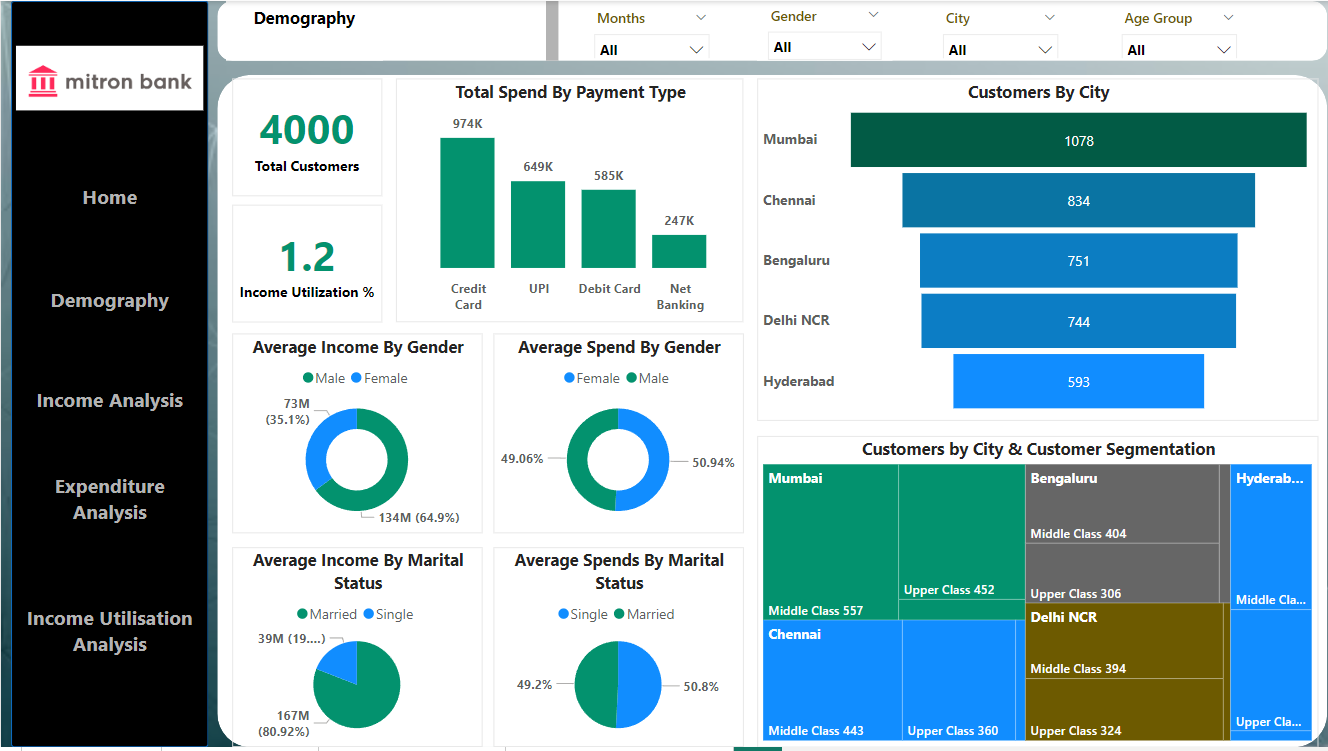

The dashboard page shown, as its layout file describes it:
{"tool":"powerbi","page":{"name":"Demography","canvas":[1280,720],"ordinal":1},"visuals":[{"type":"shape","box":[9.7,0,190.6,720.2],"z":0},{"type":"shape","box":[208.7,0,1071.3,57.9],"z":1000},{"type":"actionButton","box":[9.7,154.4,190.6,67.6],"z":2000},{"type":"actionButton","box":[9.7,349.9,190.6,67.6],"z":3000},{"type":"actionButton","box":[9.7,446.4,190.6,67.6],"z":4000},{"type":"actionButton","box":[9.7,550.1,190.6,113.4],"z":5000},{"type":"actionButton","box":[9.7,253.4,190.6,67.6],"z":6000},{"type":"textbox","box":[217.2,0,150.8,57.9],"z":7000},{"type":"shape","box":[526,0,12.1,57.9],"z":8000},{"type":"slicer","fields":{"Values":["fact_spends.month"]},"box":[562.2,2.4,131.5,53.1],"z":9000},{"type":"slicer","fields":{"Values":["dim_customers.gender"]},"box":[729.9,0,130.3,57.9],"z":10000},{"type":"slicer","fields":{"Values":["dim_customers.age_group"]},"box":[1071.3,2.4,131.5,53.1],"z":11000},{"type":"slicer","fields":{"Values":["dim_customers.city"]},"box":[898.8,2.4,131.5,53.1],"z":12000},{"type":"shape","box":[208.7,71.2,1071.3,649.1],"z":13000},{"type":"card","fields":{"Values":["dim_customers.Total Customers"]},"box":[223.2,74.8,144.8,113.4],"z":14000},{"type":"card","fields":{"Values":["dim_customers.Income Utilization %"]},"box":[223.2,196.6,144.8,113.4],"z":15000},{"type":"clusteredColumnChart","title":"Total Spend By Payment Type","fields":{"Category":["fact_spends.payment_type"],"Y":["fact_spends.Total Expenses (spend)"]},"box":[381.2,74.8,335.4,235.3],"z":16000},{"type":"donutChart","title":"Average Income By  Gender","fields":{"Category":["dim_customers.gender"],"Y":["Sum(dim_customers.avg_income)"]},"box":[223.2,320.9,241.3,193],"z":17000},{"type":"donutChart","title":"Average Spend By  Gender","fields":{"Category":["dim_customers.gender"],"Y":["Avg(fact_spends.spend)"]},"box":[475.3,320.9,241.3,193],"z":18000},{"type":"pieChart","title":"Average Income By Marital Status","fields":{"Y":["Sum(dim_customers.avg_income)"],"Category":["dim_customers.marital status"]},"box":[223.2,527.2,241.3,193],"z":19000},{"type":"pieChart","title":"Average Spends By Marital Status","fields":{"Y":["Avg(fact_spends.spend)"],"Category":["dim_customers.marital status"]},"box":[475.3,527.2,241.3,193],"z":20000},{"type":"treemap","title":"Customers by City & Customer Segmentation","fields":{"Values":["dim_customers.Total Customers"],"Group":["dim_customers.city"],"Details":["dim_customers.Customer Segmentation"]},"box":[729.9,419.8,541.7,300.4],"z":21000},{"type":"funnel","title":"Customers By City","fields":{"Category":["dim_customers.city"],"Y":["dim_customers.Total Customers"]},"box":[729.9,74.8,541.7,330.6],"z":22000},{"type":"image","box":[9.7,0,190.6,149.6],"z":23000}]}

Visuals, with their boxes on the page's 1280x720 design canvas (x1, y1, x2, y2). These are canvas units, not pixel positions in the 1328x751 screenshot, which may show the page scaled, cropped or inside an application window:
shape: (x1=10, y1=0, x2=200, y2=720)
shape: (x1=209, y1=0, x2=1280, y2=58)
actionButton: (x1=10, y1=154, x2=200, y2=222)
actionButton: (x1=10, y1=350, x2=200, y2=418)
actionButton: (x1=10, y1=446, x2=200, y2=514)
actionButton: (x1=10, y1=550, x2=200, y2=664)
actionButton: (x1=10, y1=253, x2=200, y2=321)
textbox: (x1=217, y1=0, x2=368, y2=58)
shape: (x1=526, y1=0, x2=538, y2=58)
slicer - fact_spends.month: (x1=562, y1=2, x2=694, y2=56)
slicer - dim_customers.gender: (x1=730, y1=0, x2=860, y2=58)
slicer - dim_customers.age_group: (x1=1071, y1=2, x2=1203, y2=56)
slicer - dim_customers.city: (x1=899, y1=2, x2=1030, y2=56)
shape: (x1=209, y1=71, x2=1280, y2=720)
card - dim_customers.Total Customers: (x1=223, y1=75, x2=368, y2=188)
card - dim_customers.Income Utilization %: (x1=223, y1=197, x2=368, y2=310)
"Total Spend By Payment Type" clusteredColumnChart: (x1=381, y1=75, x2=717, y2=310)
"Average Income By  Gender" donutChart: (x1=223, y1=321, x2=464, y2=514)
"Average Spend By  Gender" donutChart: (x1=475, y1=321, x2=717, y2=514)
"Average Income By Marital Status" pieChart: (x1=223, y1=527, x2=464, y2=720)
"Average Spends By Marital Status" pieChart: (x1=475, y1=527, x2=717, y2=720)
"Customers by City & Customer Segmentation" treemap: (x1=730, y1=420, x2=1272, y2=720)
"Customers By City" funnel: (x1=730, y1=75, x2=1272, y2=405)
image: (x1=10, y1=0, x2=200, y2=150)
